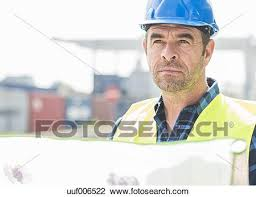Person_wearing_helmet: (137, 0, 216, 53)
